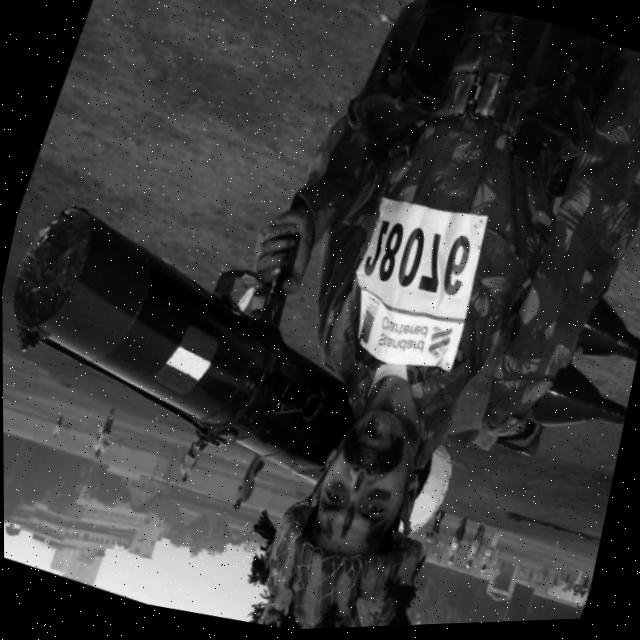rocket: (1, 173, 390, 516)
